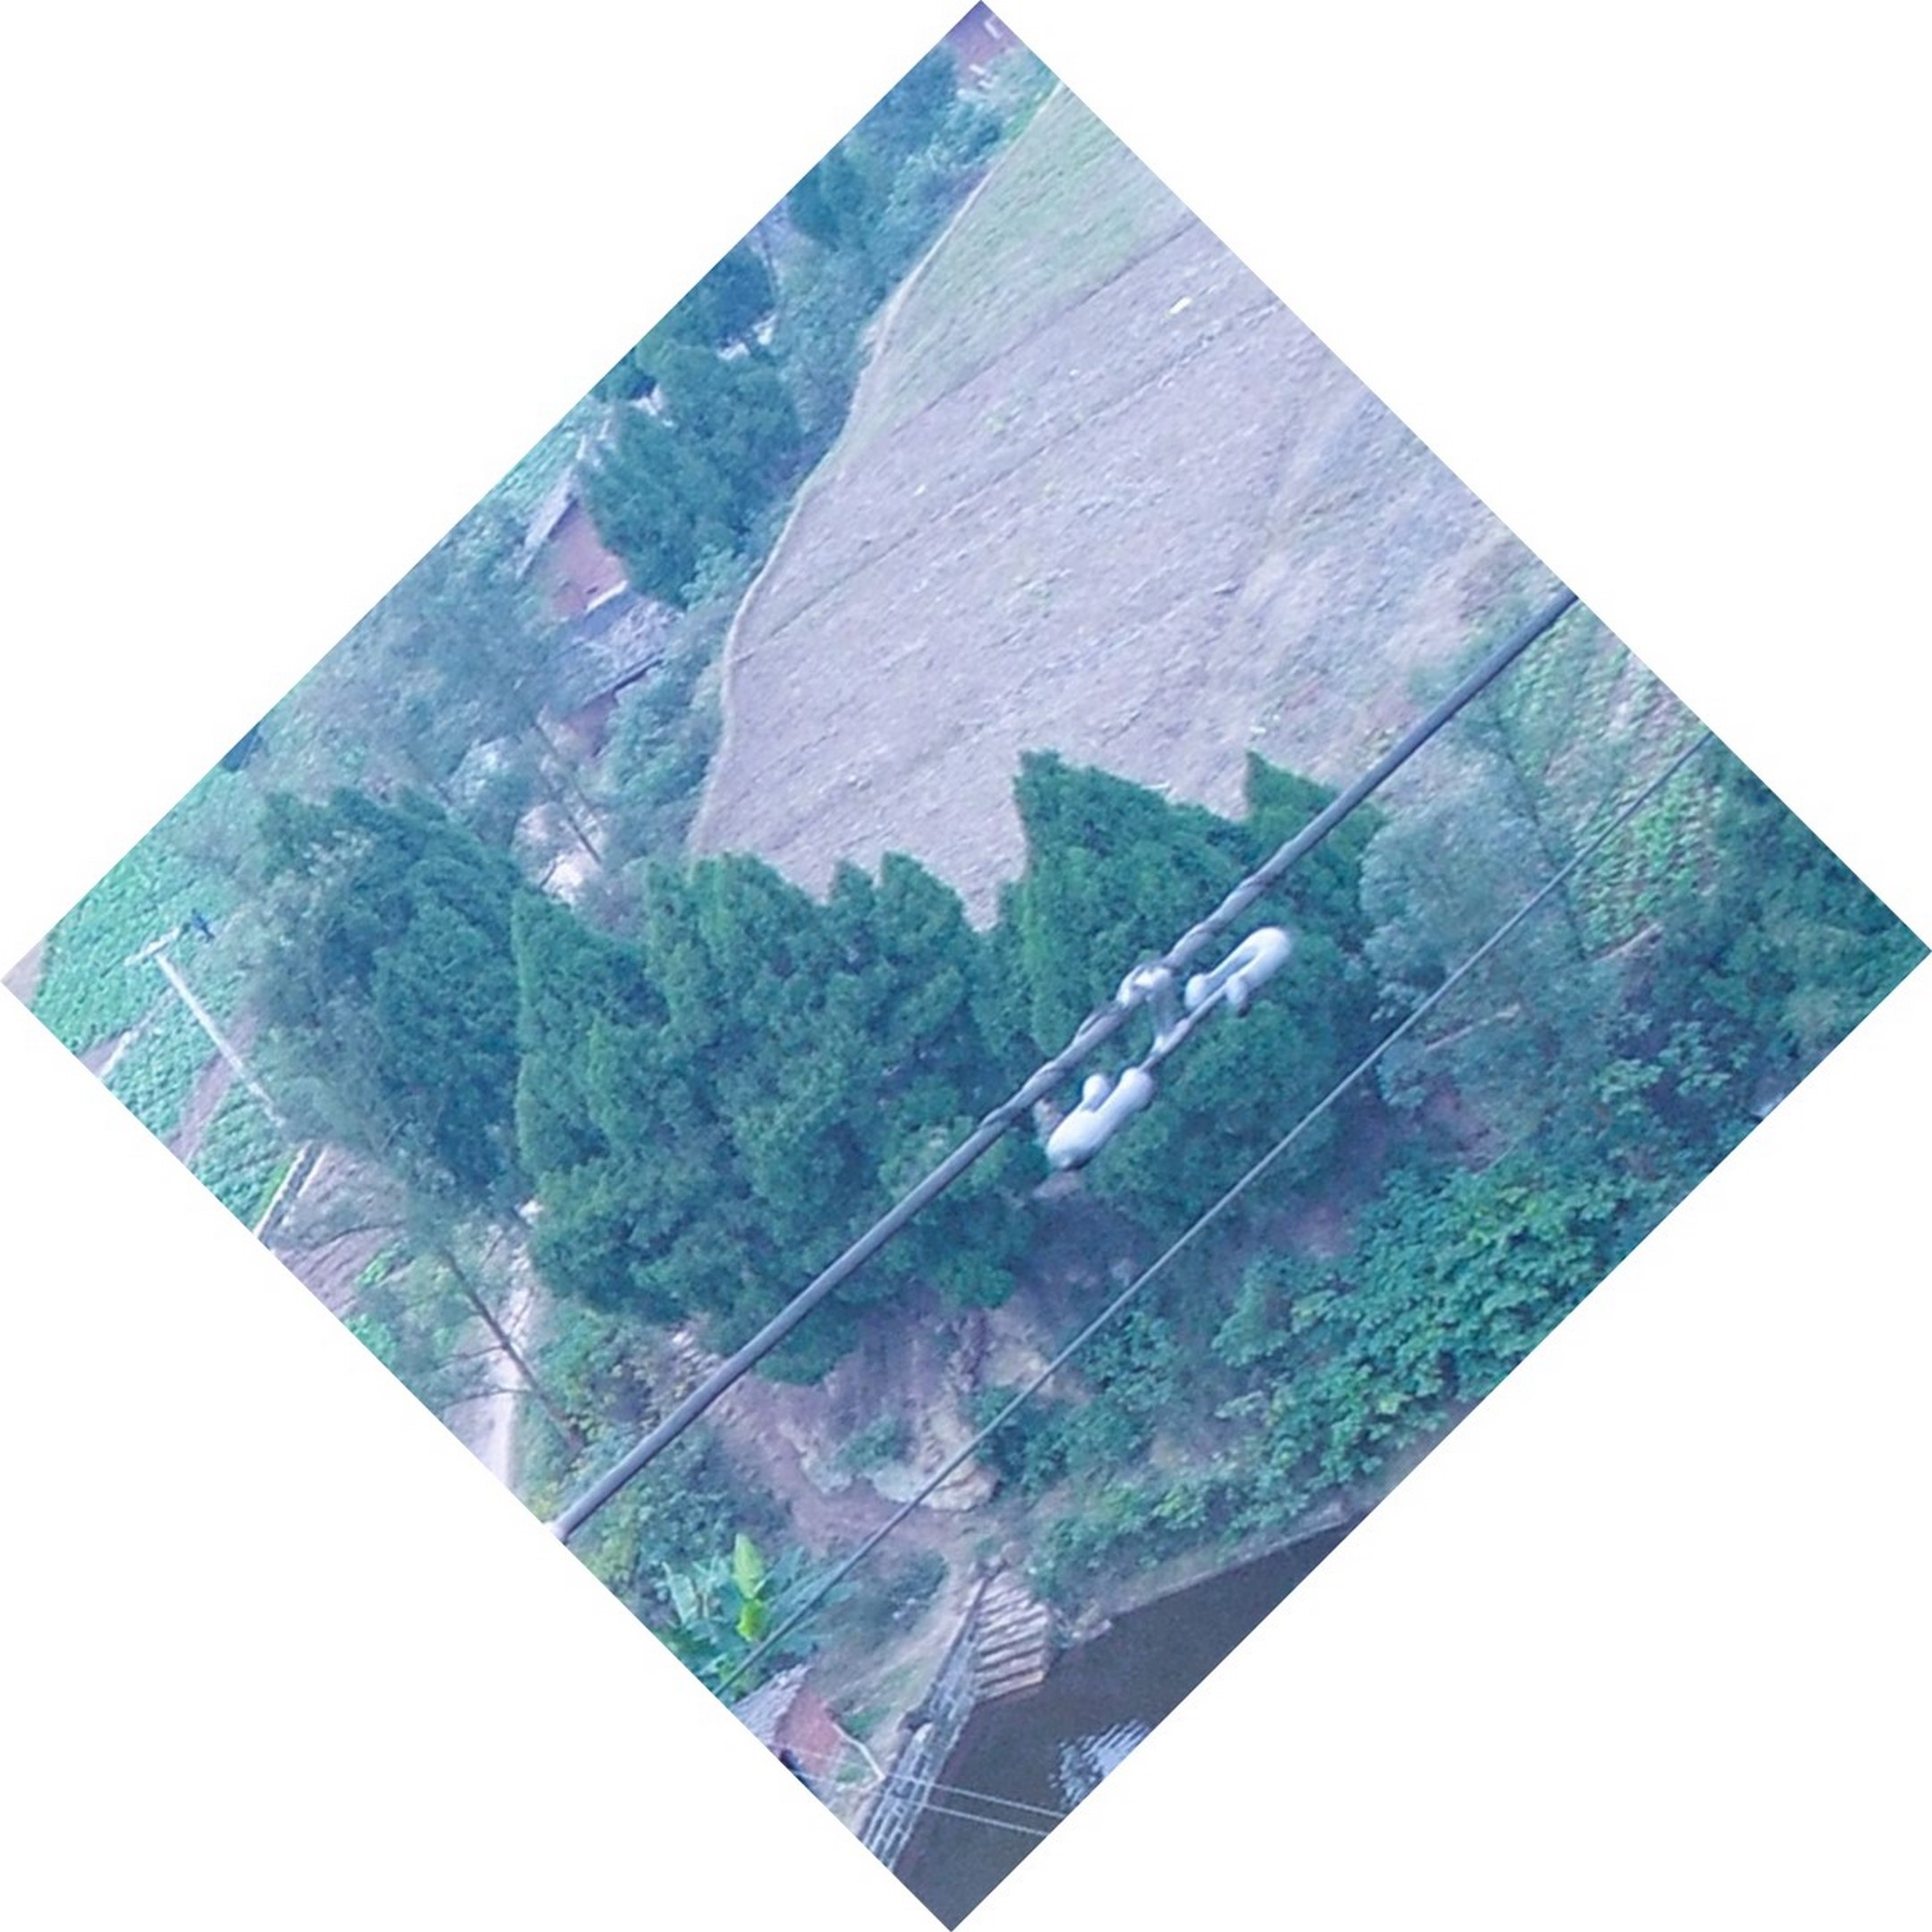Shockproof hammer: (991, 897, 1304, 1178)
